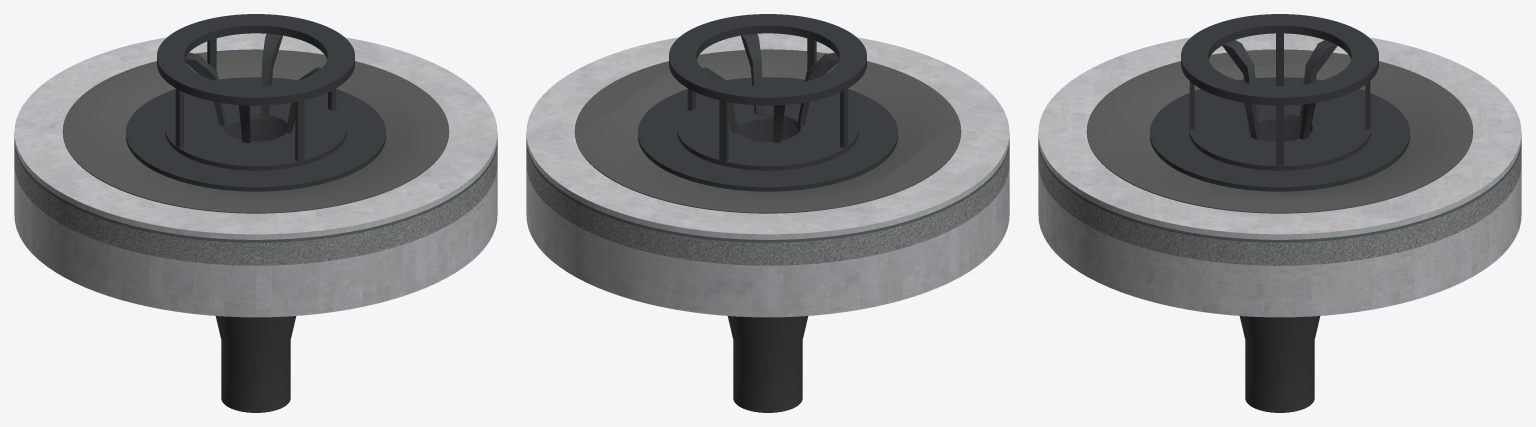
Rendered from type-65.glb.
3 renders of one model, left to right at view 1: azimuth 30°, elevation 25°; view 2: azimuth 150°, elevation 25°; view 3: azimuth 270°, elevation 25°, orthographic.
Visible parts, largest first — view 1: 屋面面层, 钢筋混凝土屋面板, 油膏嵌缝, 65型铸铁进水罩, 铸铁水落口, 1：2.5水泥砂浆, 防水卷材; view 2: 屋面面层, 钢筋混凝土屋面板, 油膏嵌缝, 65型铸铁进水罩, 铸铁水落口, 1：2.5水泥砂浆, 防水卷材; view 3: 屋面面层, 钢筋混凝土屋面板, 油膏嵌缝, 65型铸铁进水罩, 铸铁水落口, 1：2.5水泥砂浆, 防水卷材.
Part boxes in pixels (x1=…): 屋面面层: x1=14, y1=33, x2=497, y2=239; 钢筋混凝土屋面板: x1=14, y1=165, x2=497, y2=317; 油膏嵌缝: x1=62, y1=49, x2=449, y2=213; 65型铸铁进水罩: x1=157, y1=14, x2=354, y2=170; 铸铁水落口: x1=126, y1=77, x2=385, y2=412; 1：2.5水泥砂浆: x1=14, y1=142, x2=497, y2=265; 防水卷材: x1=14, y1=139, x2=497, y2=242; 屋面面层: x1=526, y1=33, x2=1009, y2=239; 钢筋混凝土屋面板: x1=526, y1=165, x2=1009, y2=317; 油膏嵌缝: x1=574, y1=49, x2=961, y2=213; 65型铸铁进水罩: x1=669, y1=14, x2=866, y2=170; 铸铁水落口: x1=638, y1=77, x2=897, y2=412; 1：2.5水泥砂浆: x1=526, y1=142, x2=1009, y2=265; 防水卷材: x1=526, y1=139, x2=1009, y2=242; 屋面面层: x1=1038, y1=33, x2=1521, y2=239; 钢筋混凝土屋面板: x1=1038, y1=165, x2=1521, y2=317; 油膏嵌缝: x1=1086, y1=49, x2=1473, y2=213; 65型铸铁进水罩: x1=1181, y1=14, x2=1378, y2=170; 铸铁水落口: x1=1150, y1=77, x2=1409, y2=412; 1：2.5水泥砂浆: x1=1038, y1=142, x2=1521, y2=265; 防水卷材: x1=1038, y1=139, x2=1521, y2=242.
Bounding box in the file's own units: 0.78 × 0.61 × 0.78.
Materials: 6 (3 with a texture image).
